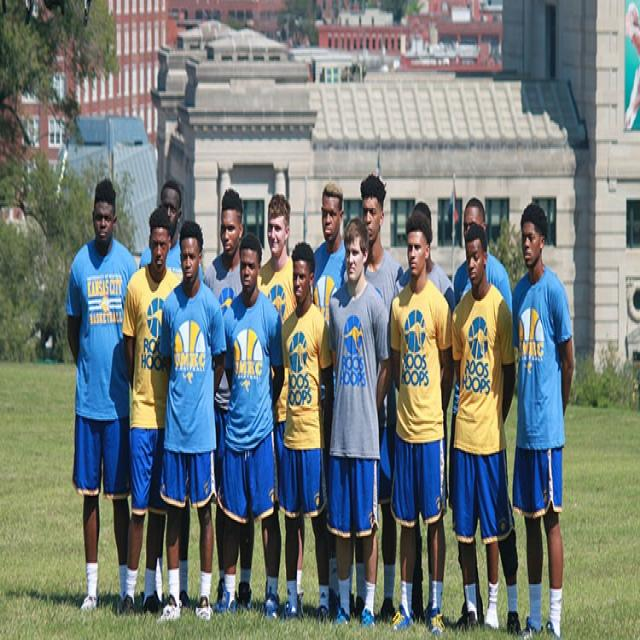body: (445, 189, 524, 637), (64, 176, 140, 614), (508, 196, 578, 638), (386, 205, 456, 638), (155, 214, 227, 626), (324, 211, 393, 635), (212, 225, 286, 620), (138, 178, 204, 614), (393, 197, 458, 630), (118, 200, 184, 624), (451, 221, 516, 635), (200, 184, 259, 614), (351, 172, 405, 622), (275, 238, 336, 628), (255, 192, 307, 621), (311, 180, 355, 614)
